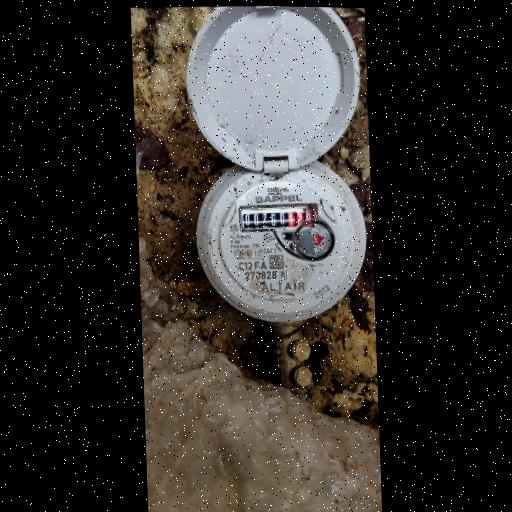0: (242, 209, 253, 229), (277, 208, 288, 227), (251, 210, 262, 228)
1: (287, 207, 297, 227)
2: (295, 208, 305, 227)
6: (268, 208, 279, 227)
7: (260, 209, 270, 228)
8: (303, 205, 315, 220)
border_water_meter_number: (238, 200, 320, 234)
